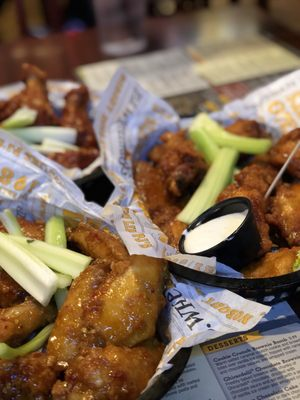pizza: (92, 0, 150, 59)
